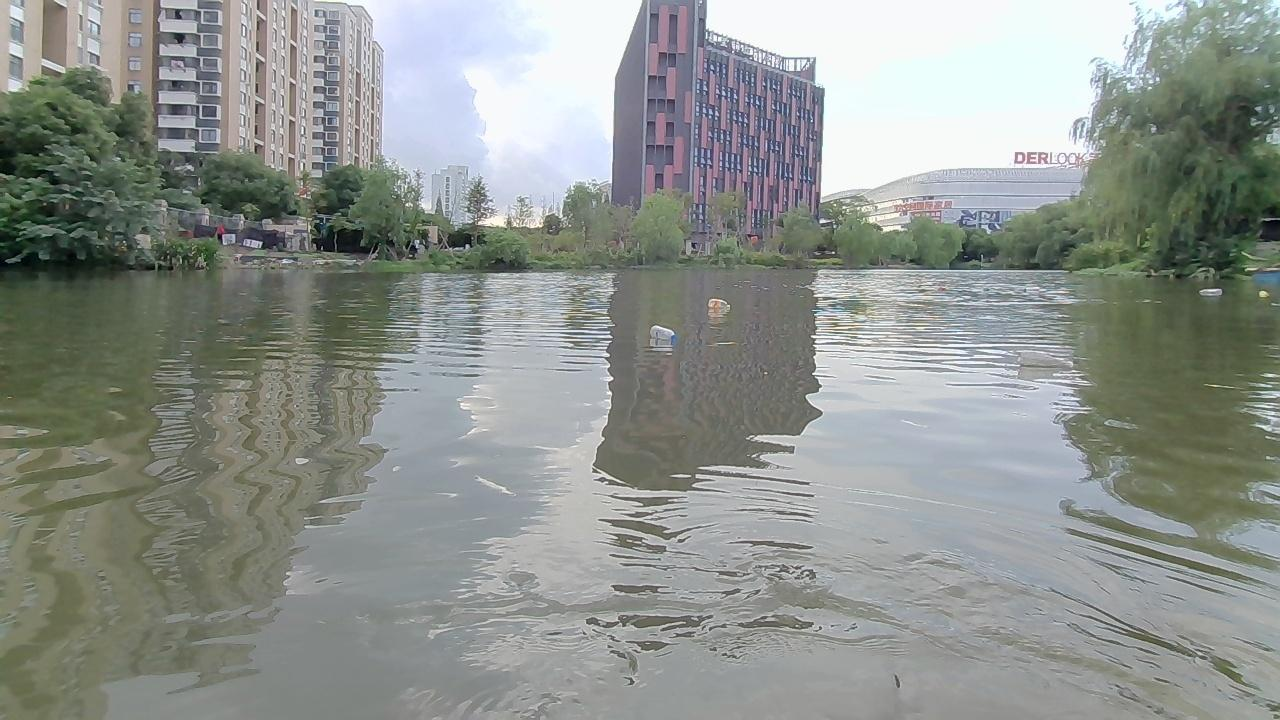bottle: (705, 294, 731, 312), (647, 325, 679, 339), (1197, 287, 1225, 297), (1256, 287, 1266, 299)
